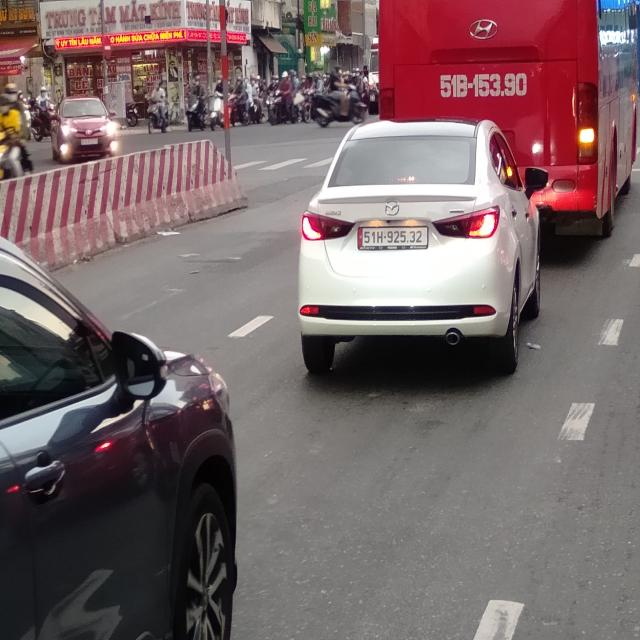bien_trang: (359, 227, 428, 250)
